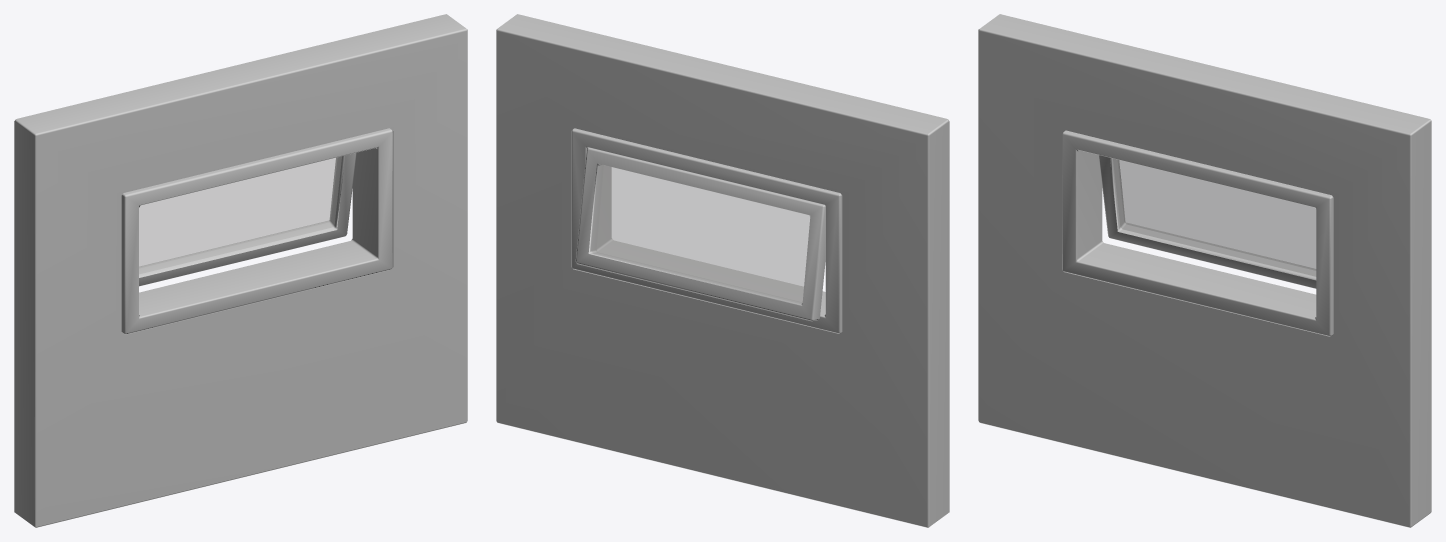
Rendered from Wall_53.fbx.
3 views of the same model, side by side, from view 1: azimuth 30°, elevation 25°; view 2: azimuth 150°, elevation 25°; view 3: azimuth 330°, elevation 25° (orthographic).
Visible parts, largest first — view 1: Wall_53; view 2: Wall_53; view 3: Wall_53.
Part boxes in pixels (x1,y1,x2,y2): Wall_53: (14,14,467,527); Wall_53: (496,14,949,527); Wall_53: (978,14,1431,527).
Bounding box in the file's own units: 460 × 400 × 70.55.
